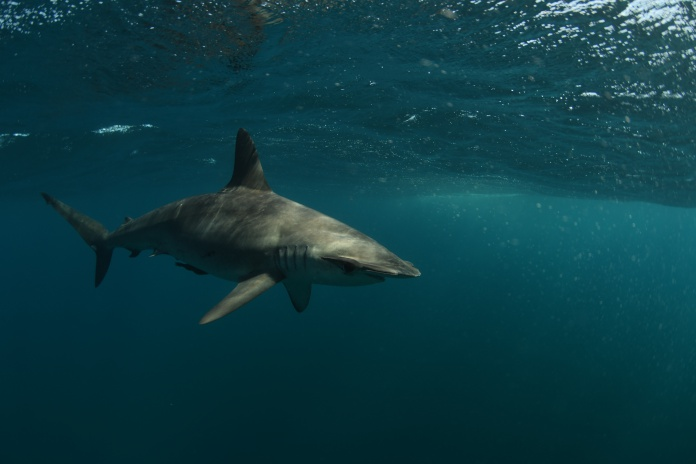Hammer: (18, 111, 280, 248)
